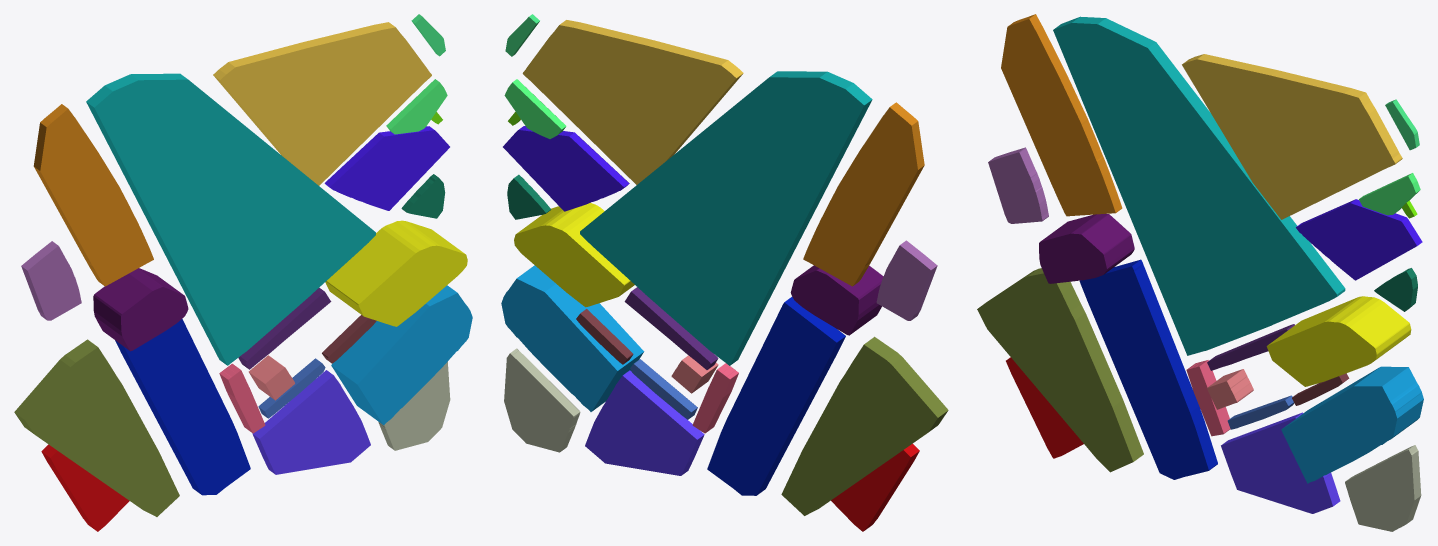
3 renders of one model, left to right at view 1: azimuth 30°, elevation 25°; view 2: azimuth 150°, elevation 25°; view 3: azimuth 330°, elevation 25°, orthographic.
Parts seen in each view (by area): view 1: Block 2, Block 10, Block 1, Block 0, Block 8, Block 15, Block 19, Block 13, Block 22, Block 6, Block 14, Block 9 (+9 smaller); view 2: Block 2, Block 10, Block 1, Block 0, Block 8, Block 15, Block 13, Block 19, Block 22, Block 14, Block 6, Block 9 (+9 smaller); view 3: Block 2, Block 10, Block 1, Block 0, Block 8, Block 15, Block 19, Block 13, Block 22, Block 6, Block 14, Block 9 (+9 smaller).
Boxes of the visible parts, x1,y1,x2,y2 form: Block 2: (86, 73, 375, 365); Block 10: (213, 22, 431, 185); Block 1: (14, 339, 179, 516); Block 0: (115, 319, 250, 495); Block 8: (33, 104, 153, 286); Block 15: (331, 285, 472, 425); Block 19: (325, 220, 467, 326); Block 13: (252, 370, 370, 474); Block 22: (324, 126, 449, 210); Block 6: (93, 268, 188, 351); Block 14: (378, 361, 450, 450); Block 9: (21, 241, 81, 320); Block 2: (580, 71, 872, 365); Block 10: (522, 20, 743, 184); Block 1: (781, 336, 948, 515); Block 0: (707, 297, 845, 495); Block 8: (803, 102, 924, 286); Block 15: (501, 265, 644, 411); Block 13: (585, 370, 704, 475); Block 19: (514, 203, 634, 307); Block 22: (503, 126, 629, 211); Block 14: (504, 348, 580, 452); Block 6: (790, 265, 883, 335); Block 9: (876, 240, 937, 320); Block 2: (1053, 16, 1345, 355); Block 10: (1182, 54, 1402, 219); Block 1: (977, 268, 1143, 472); Block 0: (1079, 259, 1217, 479); Block 8: (1001, 14, 1122, 216); Block 15: (1281, 366, 1423, 483); Block 19: (1266, 296, 1411, 386); Block 13: (1221, 412, 1340, 513); Block 22: (1296, 199, 1422, 280); Block 6: (1039, 213, 1134, 283); Block 14: (1345, 445, 1421, 531); Block 9: (988, 147, 1048, 223).
Size of the model in its own units: 545 by 530 by 75.02.
